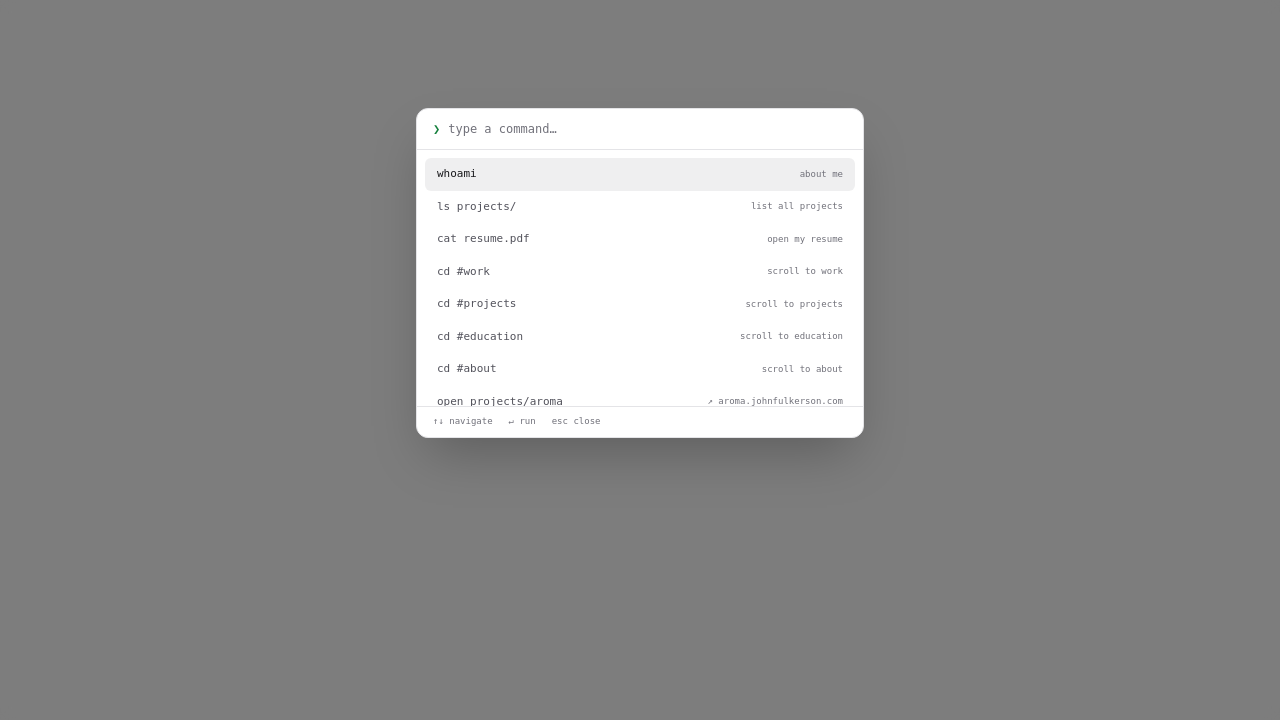
Test case: CommandPalette › clear wipes the scrollback without closing
Type "whoami" into the field named "Command input" at [648, 129], box 448,121 -> 847,137
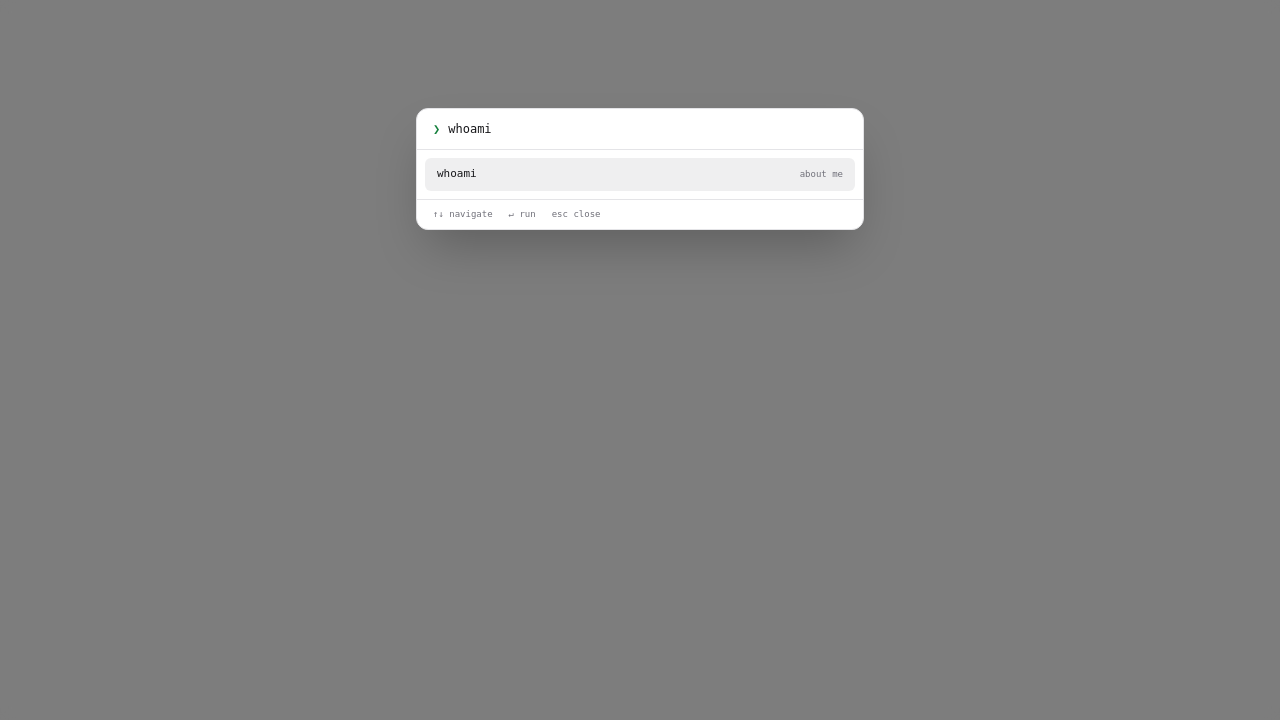
Press Enter in the field named "Command input", box 448,121 -> 847,137
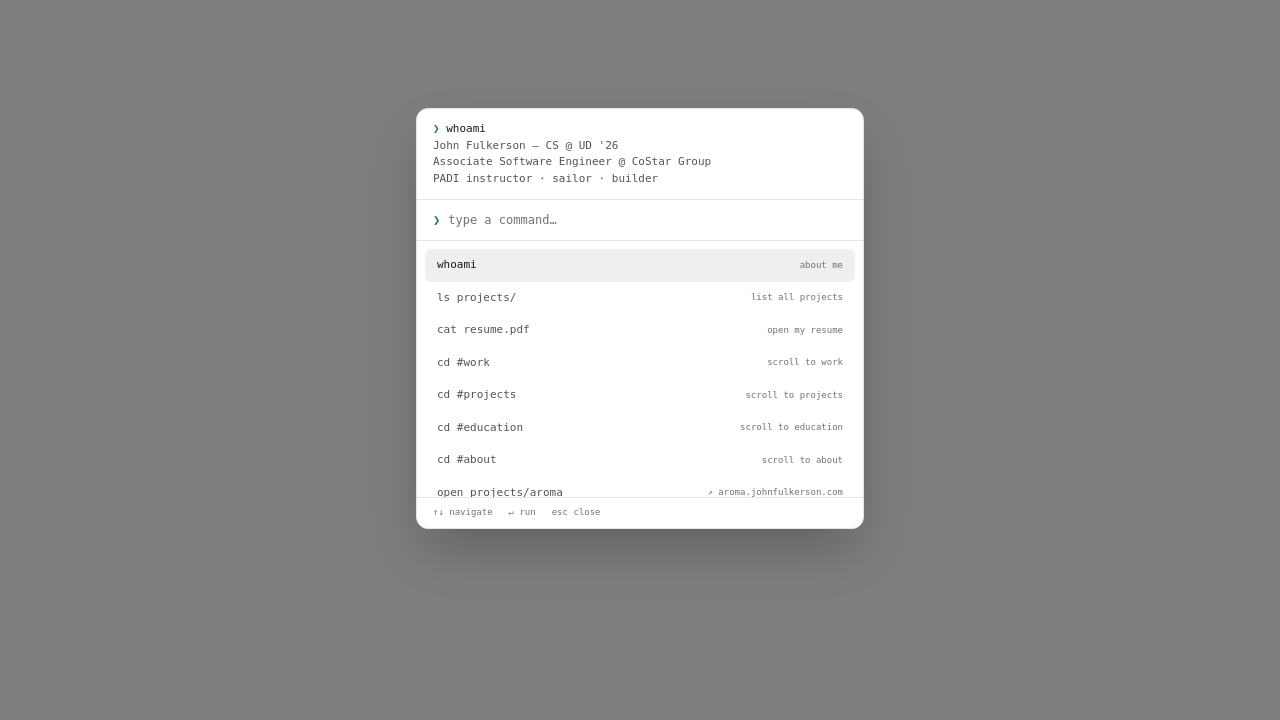
Now the element with test id "scrollback" is shown, box 417,109 -> 863,200
Type "clear" into the field named "Command input" at [648, 220], box 448,212 -> 847,228
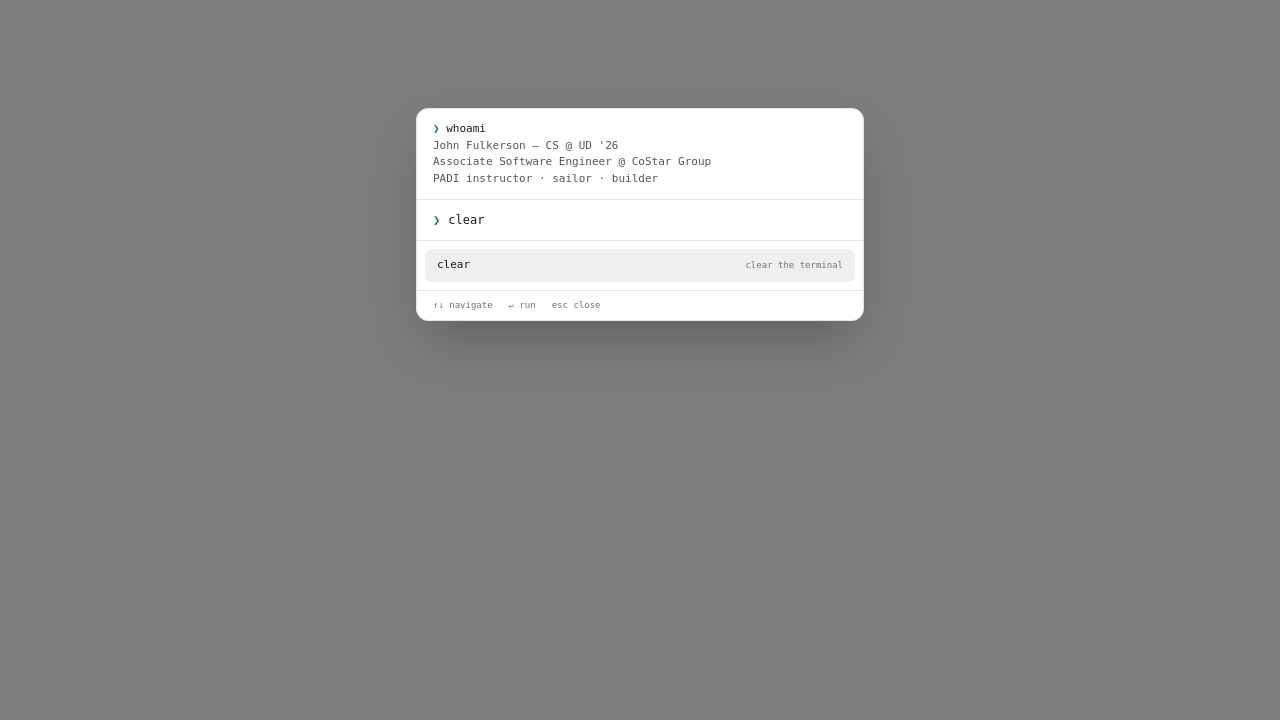
Press Enter in the field named "Command input", box 448,212 -> 847,228
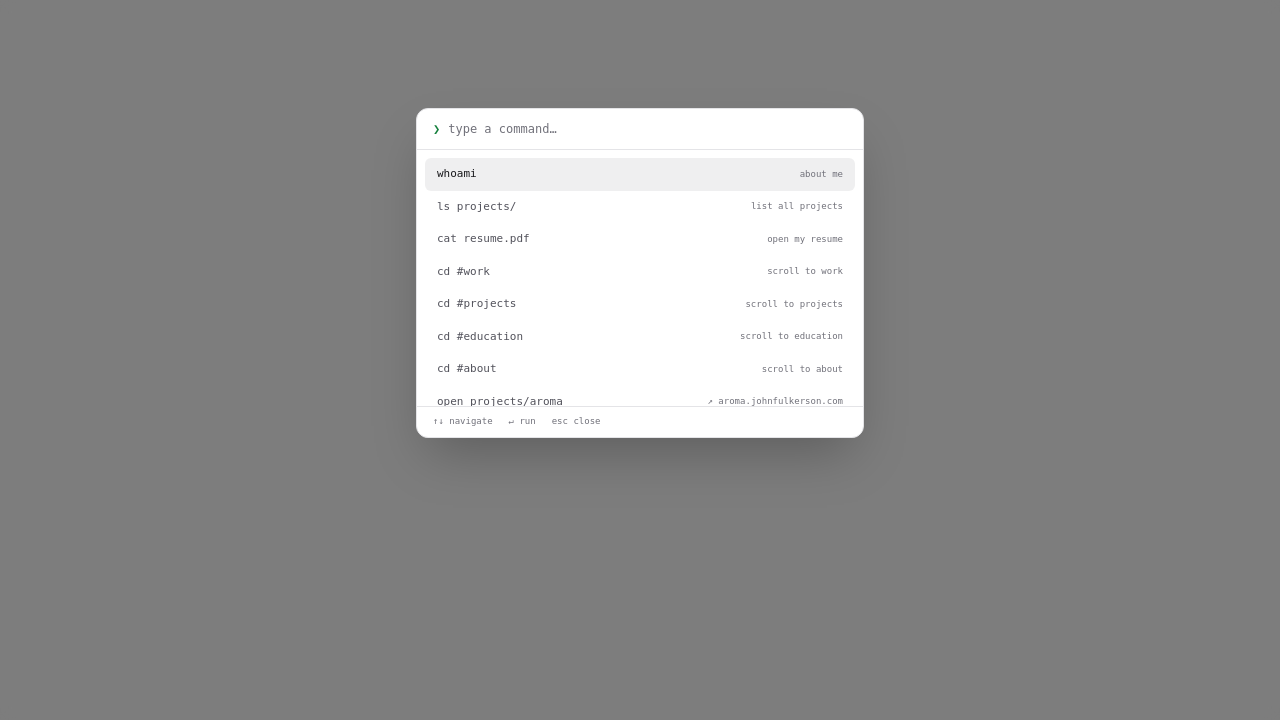
Now the element with test id "scrollback" is gone
